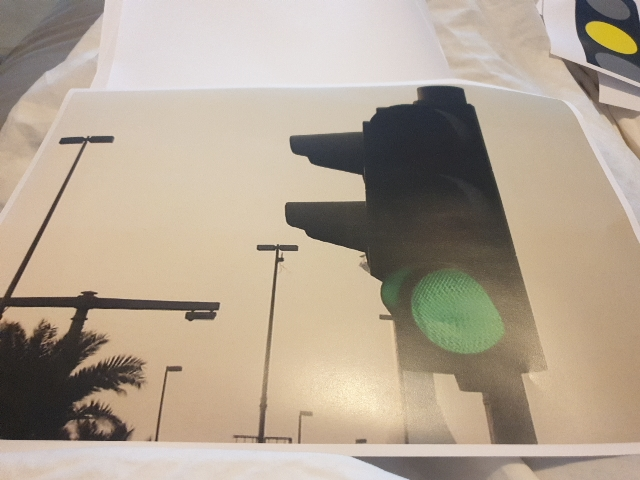green: (368, 113, 509, 365)
